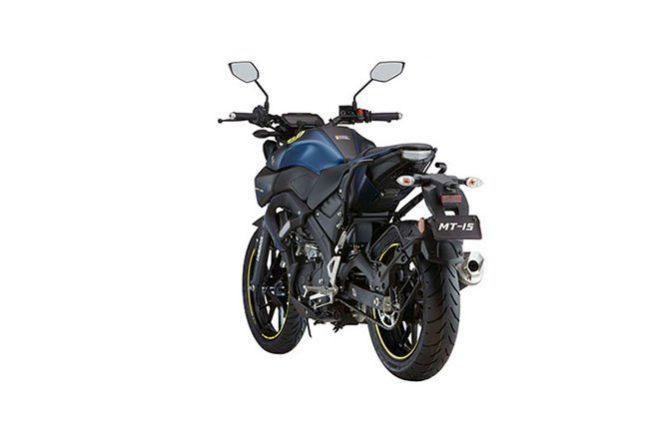motorbike: (217, 60, 484, 381)
